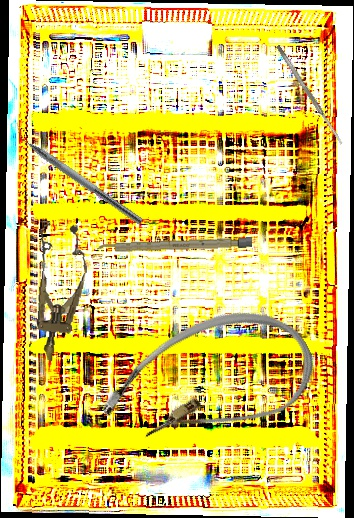Cannula: (87, 283, 329, 484)
Chopper: (7, 121, 150, 225)
Scalpel Handle: (96, 237, 253, 253)
Spatula Surgical: (275, 44, 344, 146)
Speculum: (22, 220, 93, 364)
